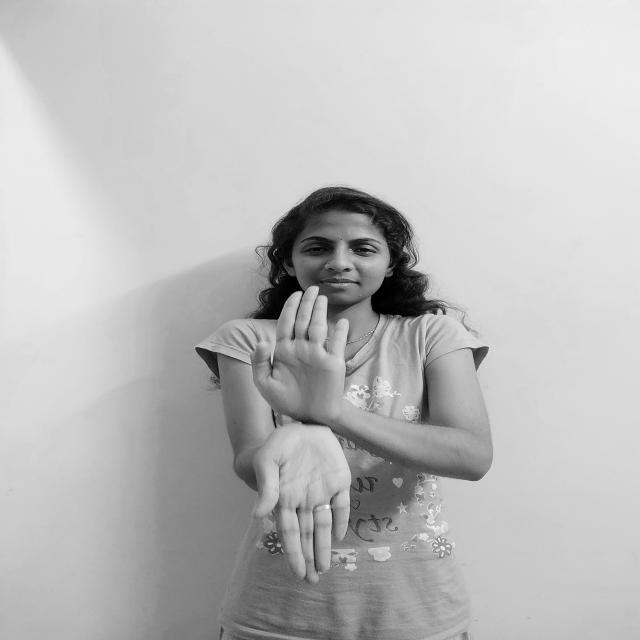Morning: (243, 278, 366, 594)
